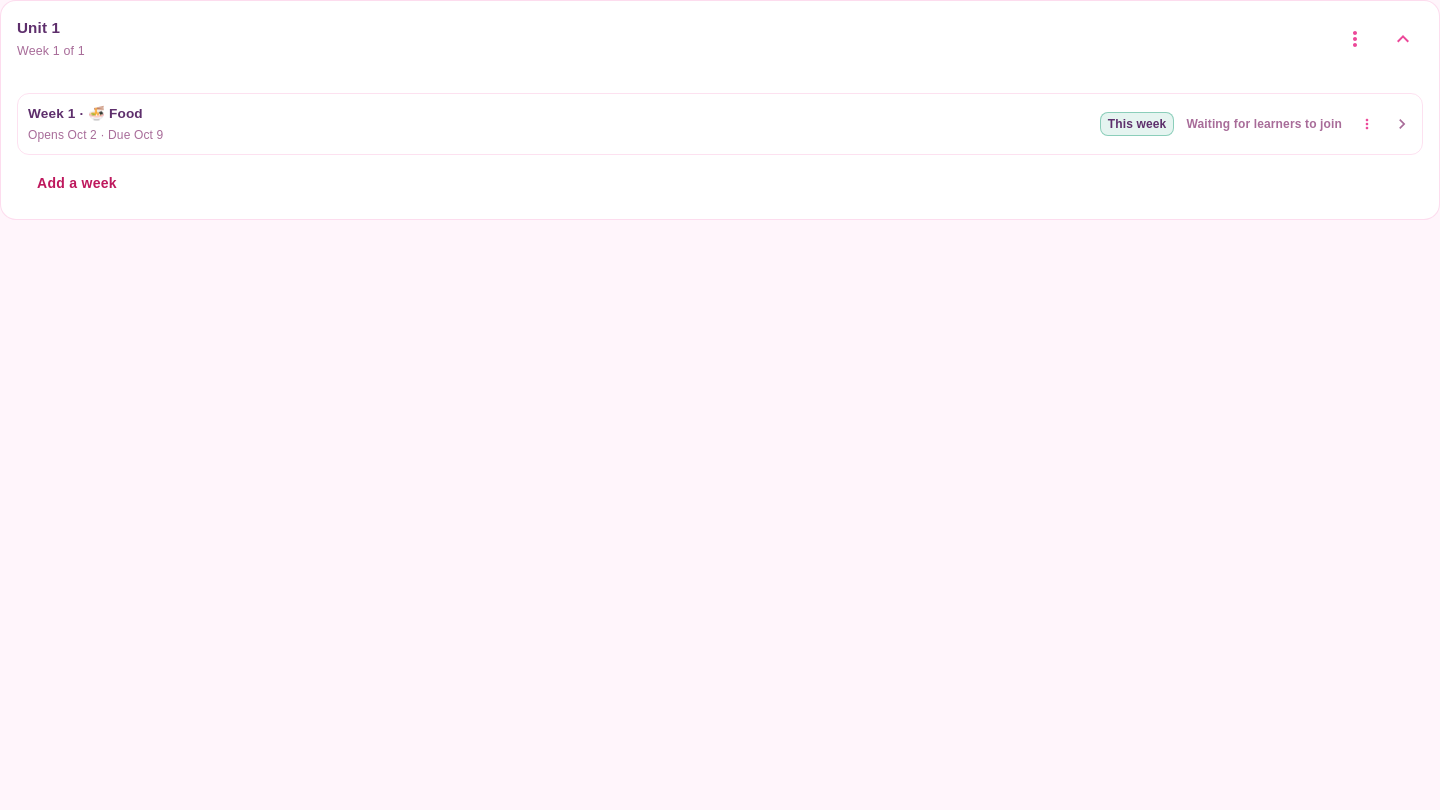
Test: LessonLibrary › excludes shared decks from the deck picker
Click the button "Add a week".
click(77, 183)  # box [17,163,137,203]
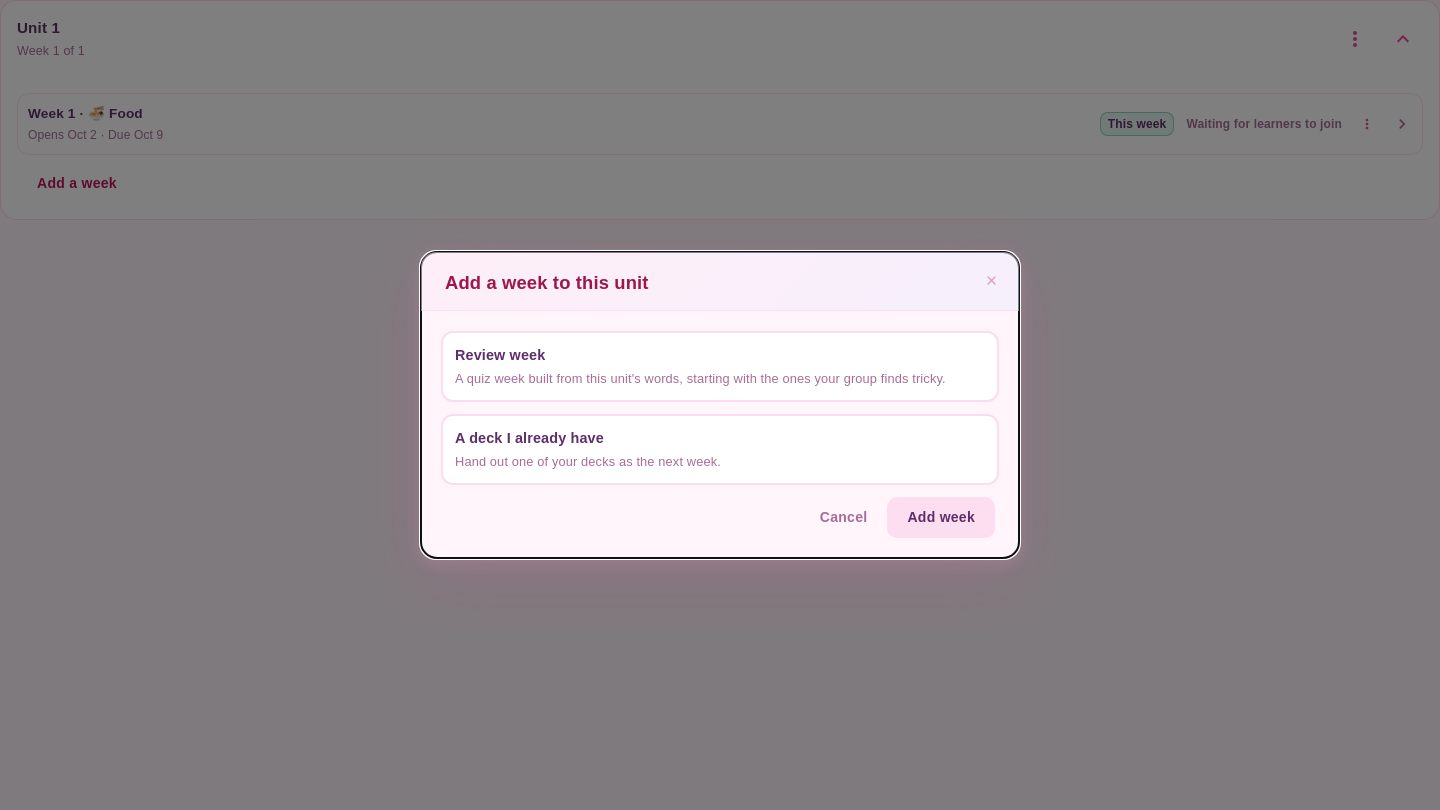
Click the text "A deck I already have".
click(529, 438)  # box [455,430,604,446]
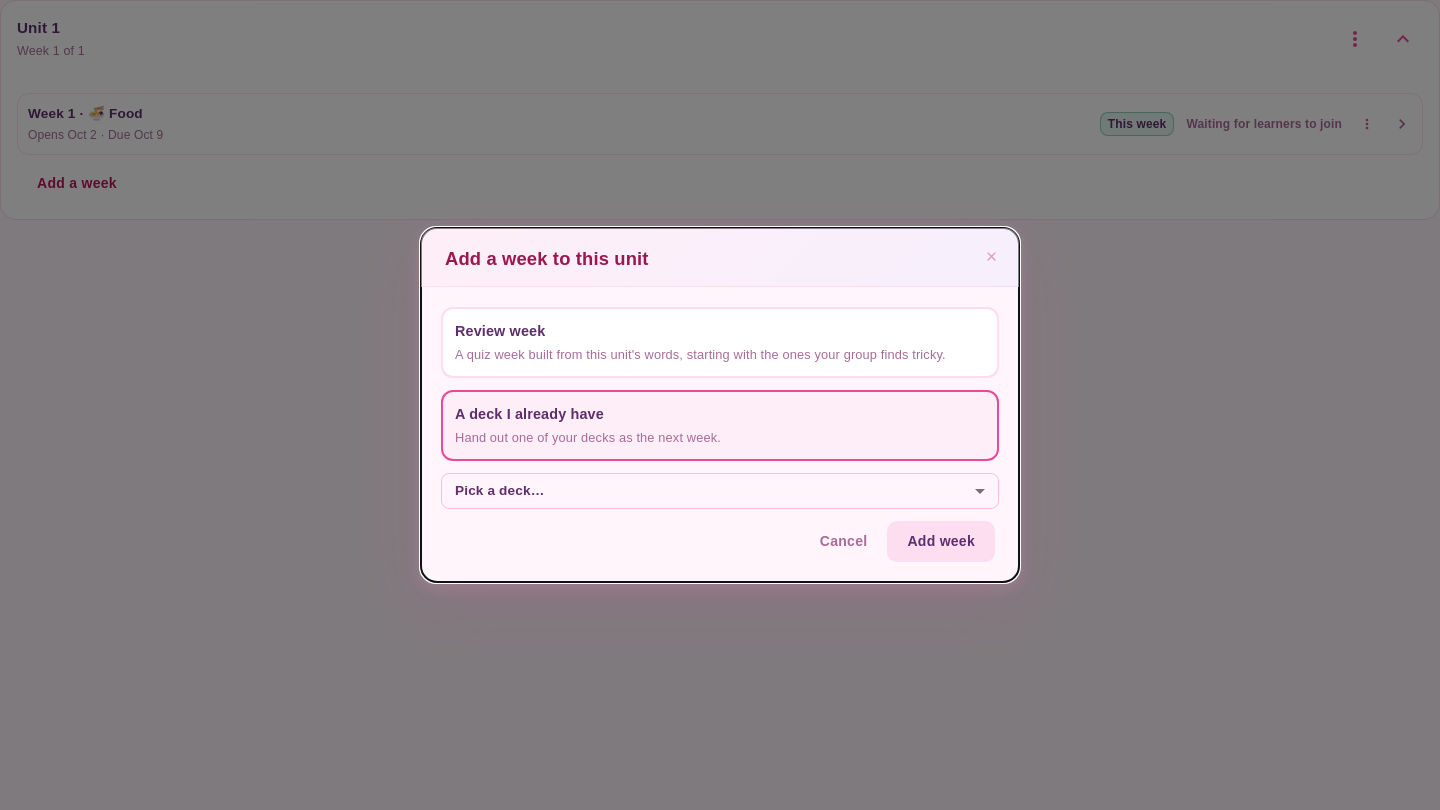
Press the mouse on the dropdown at (500,491), box [455,483,544,498]
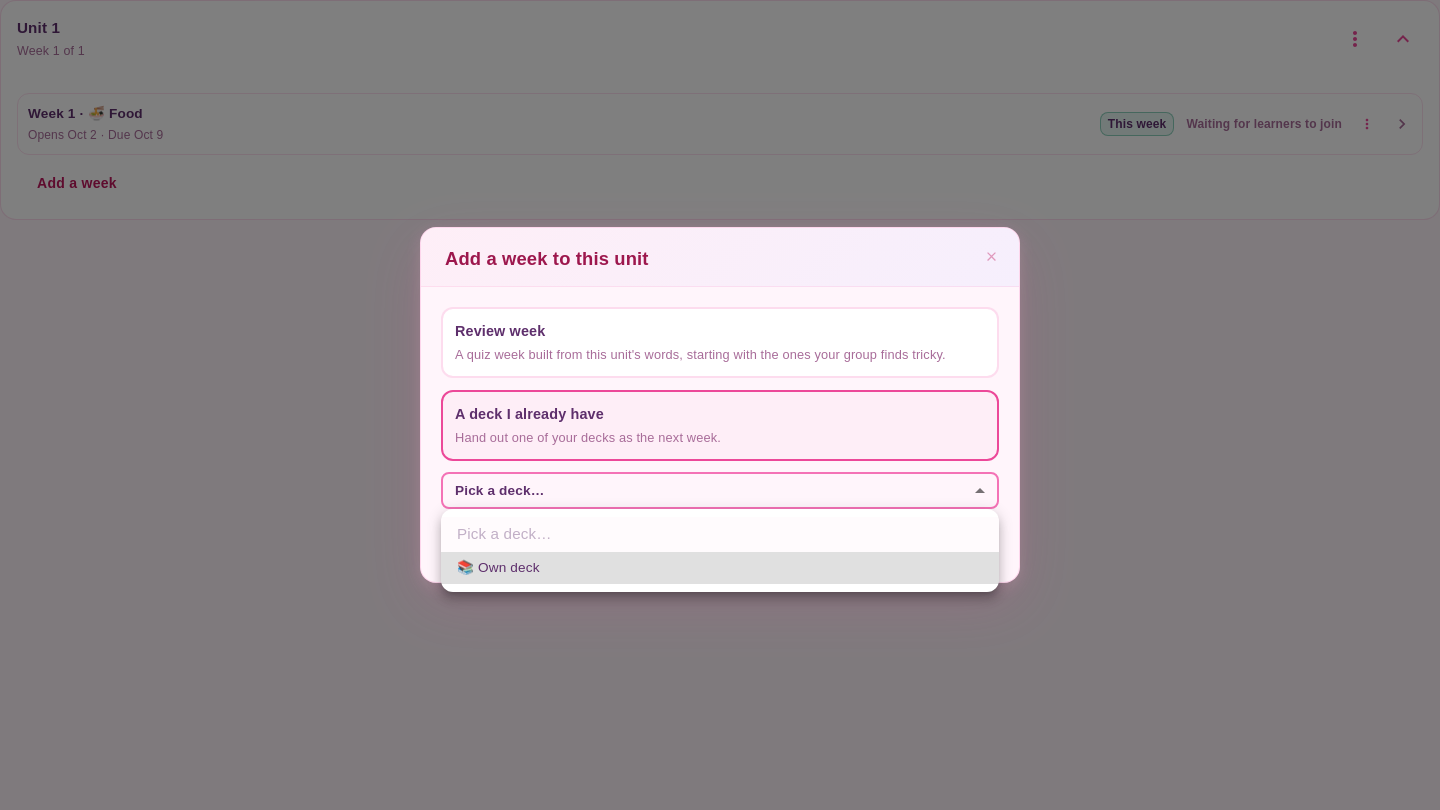
Result: the option "📚 Own deck" is shown at [441,552,999,584]
